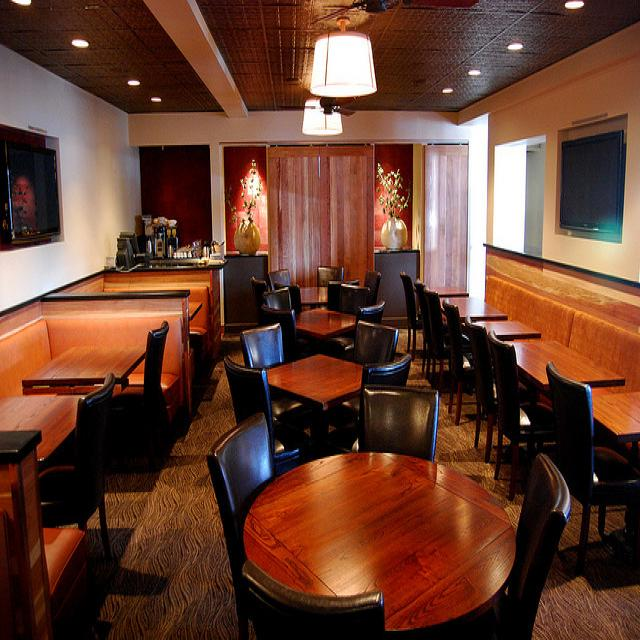chair: (107, 262, 474, 481), (206, 408, 300, 625), (545, 361, 640, 564), (486, 450, 568, 633), (40, 370, 115, 564), (488, 330, 555, 499), (240, 561, 385, 631), (223, 356, 309, 463), (359, 384, 439, 460), (467, 317, 496, 462), (354, 319, 399, 366), (239, 321, 284, 367), (364, 269, 381, 307)
dining table: (244, 450, 518, 631), (26, 286, 327, 384), (267, 353, 362, 453), (502, 338, 625, 383), (591, 388, 640, 442), (295, 304, 356, 341), (436, 293, 507, 321), (477, 318, 541, 340), (428, 285, 469, 296)
